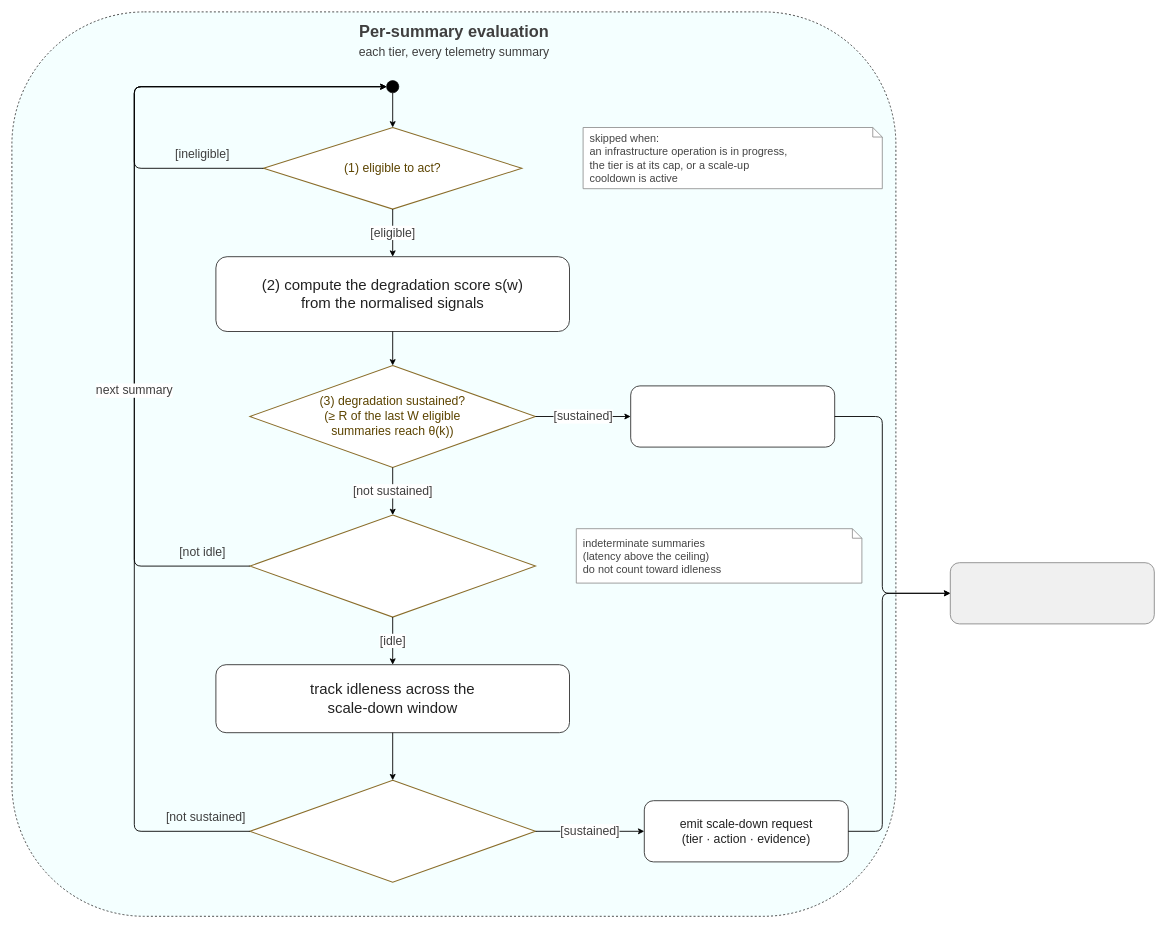
Some shapes in this 1167 by 928 pixel diagram are drawn without their labels. Here are the shapes that lost their labels. From the top down, the centre of each, then its label:
At (x=732, y=416): "emit scale-up request (tier · action · evidence)".
At (x=392, y=565): "(4) idle conditions? (both signals below their idle thresholds)".
At (x=1052, y=593): "action queue".
At (x=392, y=831): "idleness sustained? (spanning R↓ of the last W↓ summaries)".
